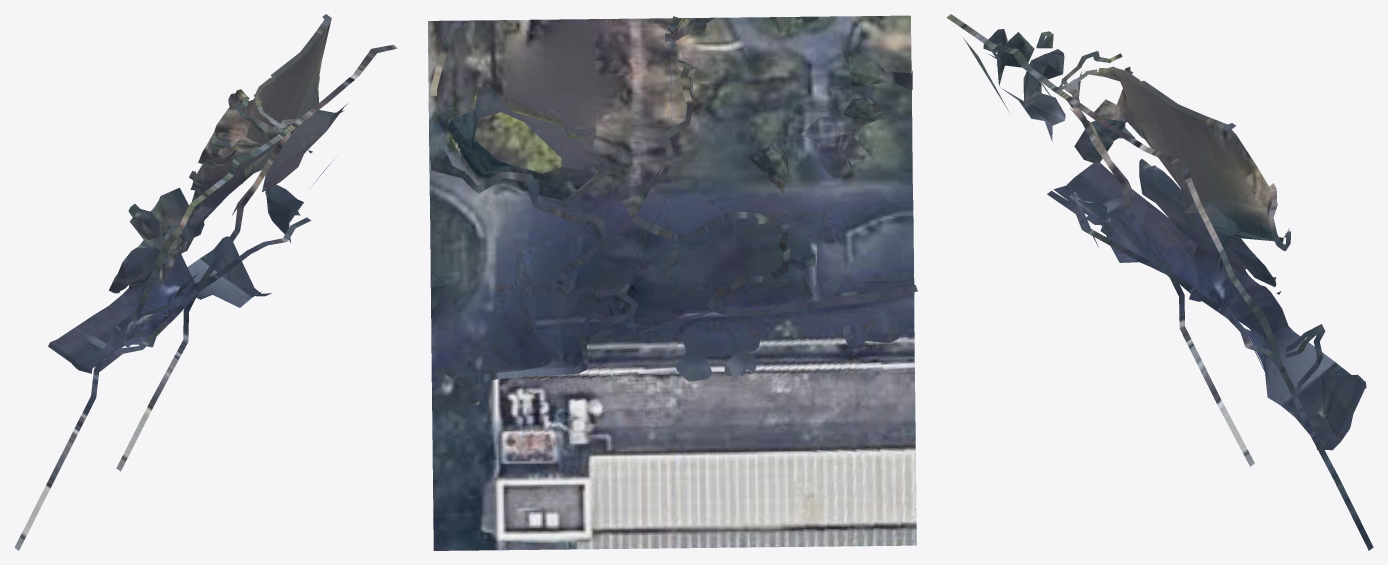
The picture shows the model from 3 angles, left to right: view 1: azimuth 30°, elevation 25°; view 2: azimuth 150°, elevation 25°; view 3: azimuth 270°, elevation 25°; orthographic projection. The views are drawn at different scales.
Bounding box in the file's own units: 38.25 × 37.1 × 32.19.
1 material, 1 textured.
